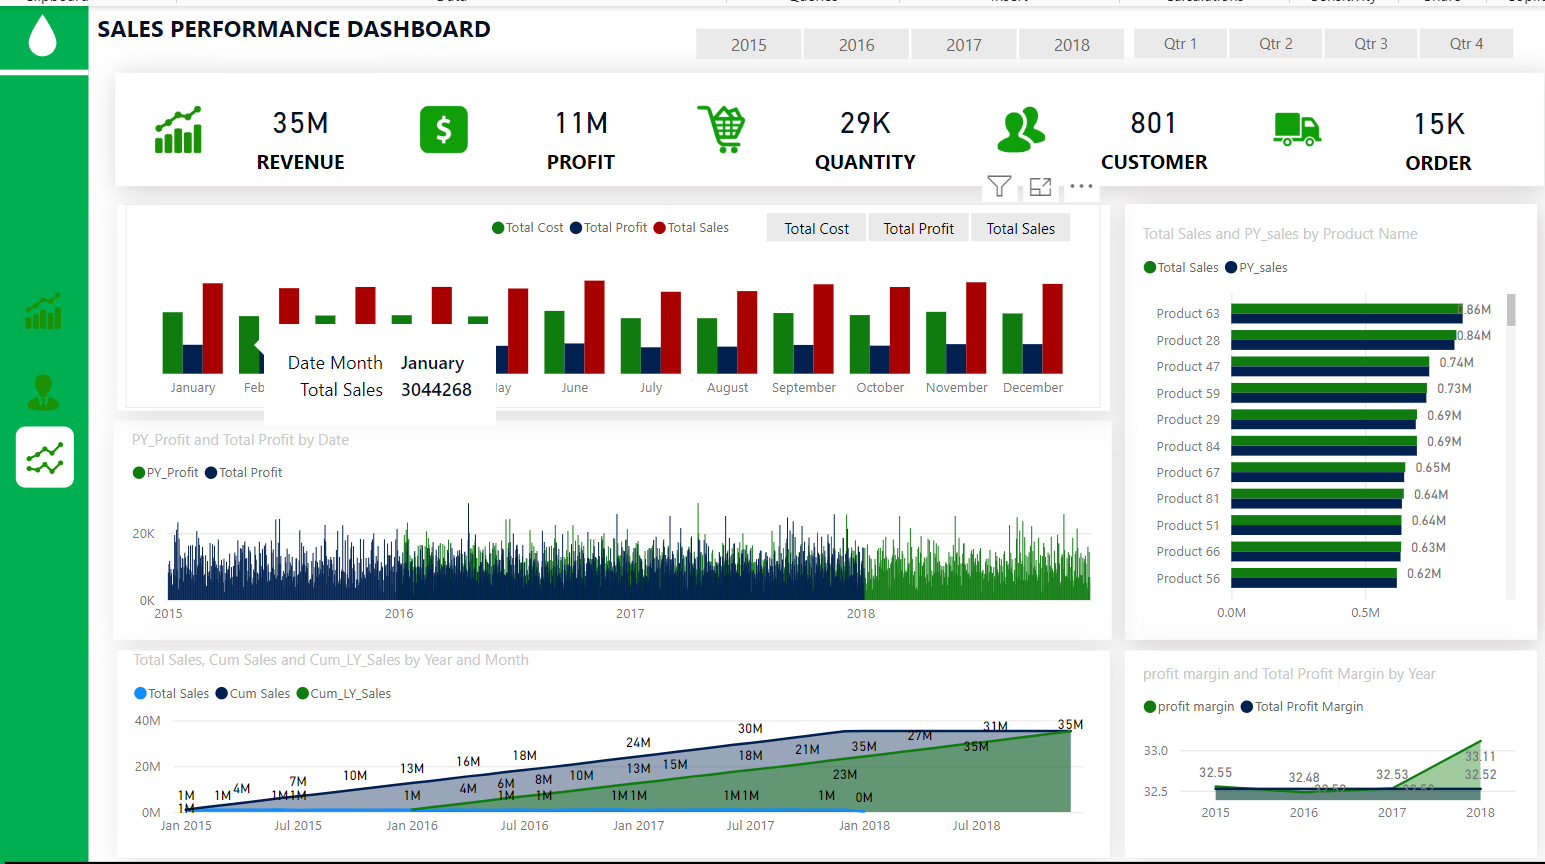

The dashboard page shown, as its layout file describes it:
{"tool":"powerbi","page":{"name":"Customer","canvas":[1280,720],"ordinal":1},"visuals":[{"type":"clusteredColumnChart","fields":{"Y":["All Measure.Total Cost","All Measure.Total Profit","All Measure.Total Sales"],"Category":["Date.Date.Variation.Date Hierarchy.Month"]},"box":[103.1,159.5,784.9,164.4],"z":0},{"type":"card","fields":{"Values":["All Measure.Total Sales"]},"box":[179.9,61.3,126.4,82.7],"z":1000},{"type":"card","fields":{"Values":["All Measure.Total Profit"]},"box":[392.9,61.3,152.7,82.7],"z":2000},{"type":"card","fields":{"Values":["All Measure.Total Quantity"]},"box":[617.6,61.3,161.5,82.7],"z":3000},{"type":"card","fields":{"Values":["CountNonNull(Customer_Data.Customer ID)"]},"box":[854,61.3,153.7,82.7],"z":4000},{"type":"card","fields":{"Values":["All Measure.Total Orders"]},"box":[1079.6,62.2,159.5,82.7],"z":5000},{"type":"clusteredColumnChart","fields":{"Y":["All Measure.PY_Profit","All Measure.Total Profit"],"Category":["Date.Date"]},"box":[103.1,340.4,794.7,165.3],"z":6000},{"type":"clusteredBarChart","fields":{"Category":["Product_Data.Product Name"],"Y":["All Measure.Total Sales","All Measure.PY_sales"]},"box":[917.2,175.1,310.3,329.7],"z":7000},{"type":"areaChart","fields":{"Category":["Date.Date.Variation.Date Hierarchy.Year","Date.Date.Variation.Date Hierarchy.Month"],"Y":["All Measure.profit margin","All Measure.Total Profit Margin"]},"box":[917.2,529.1,310.3,137.1],"z":8000},{"type":"areaChart","fields":{"Category":["Date.Date.Variation.Date Hierarchy.Year","Date.Date.Variation.Date Hierarchy.Month"],"Y":["All Measure.Total Sales","All Measure.Cum Sales","All Measure.Cum_LY_Sales"]},"box":[104.1,518.4,784.9,158.5],"z":9000},{"type":"slicer","fields":{"Values":["Parameter.Parameter"]},"box":[593.3,159.5,294.7,30.2],"z":10000},{"type":"slicer","fields":{"Values":["Date.Date.Variation.Date Hierarchy.Year"]},"box":[535.9,10.7,394.9,37],"z":11000},{"type":"slicer","fields":{"Values":["Date.Date.Variation.Date Hierarchy.Quarter"]},"box":[889,10.7,355,36],"z":12000},{"type":"ScrollingTextVisual1448795304508","fields":{"Category":["Location_Data.State"],"Measure Absolute":["All Measure.Total Sales"],"Measure Deviation":["All Measure.PY_sales"]},"box":[0,683.6,1279.7,37.3],"z":13000},{"type":"actionButton","box":[6.9,223.5,61.5,51.1],"z":14000},{"type":"textbox","box":[75.4,0,446.2,47.7],"z":15000}]}

Visuals, with their boxes on the page's 1280x720 design canvas (x1, y1, x2, y2). These are canvas units, not pixel positions in the 1545x864 screenshot, which may show the page scaled, cropped or inside an application window:
clusteredColumnChart - All Measure.Total Cost x All Measure.Total Profit: (103,160,888,324)
card - All Measure.Total Sales: (180,61,306,144)
card - All Measure.Total Profit: (393,61,546,144)
card - All Measure.Total Quantity: (618,61,779,144)
card - CountNonNull(Customer_Data.Customer ID): (854,61,1008,144)
card - All Measure.Total Orders: (1080,62,1239,145)
clusteredColumnChart - All Measure.PY_Profit x All Measure.Total Profit: (103,340,898,506)
clusteredBarChart - Product_Data.Product Name x All Measure.Total Sales: (917,175,1228,505)
areaChart - Date.Date.Variation.Date Hierarchy.Year x Date.Date.Variation.Date Hierarchy.Month: (917,529,1228,666)
areaChart - Date.Date.Variation.Date Hierarchy.Year x Date.Date.Variation.Date Hierarchy.Month: (104,518,889,677)
slicer - Parameter.Parameter: (593,160,888,190)
slicer - Date.Date.Variation.Date Hierarchy.Year: (536,11,931,48)
slicer - Date.Date.Variation.Date Hierarchy.Quarter: (889,11,1244,47)
ScrollingTextVisual1448795304508 - Location_Data.State x All Measure.Total Sales: (0,684,1280,721)
actionButton: (7,224,68,275)
textbox: (75,0,522,48)
